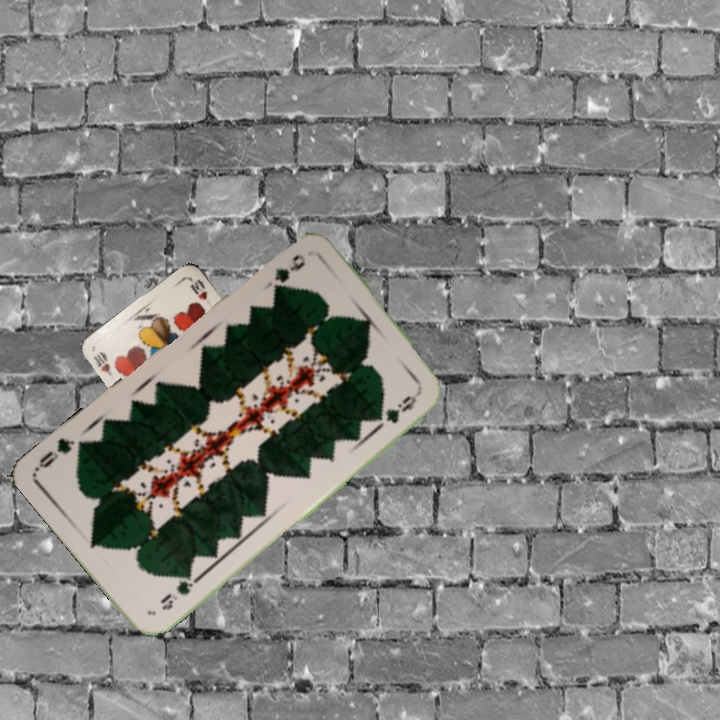G9: (260, 250, 308, 293), (156, 568, 201, 613)
H10: (89, 347, 116, 380)
